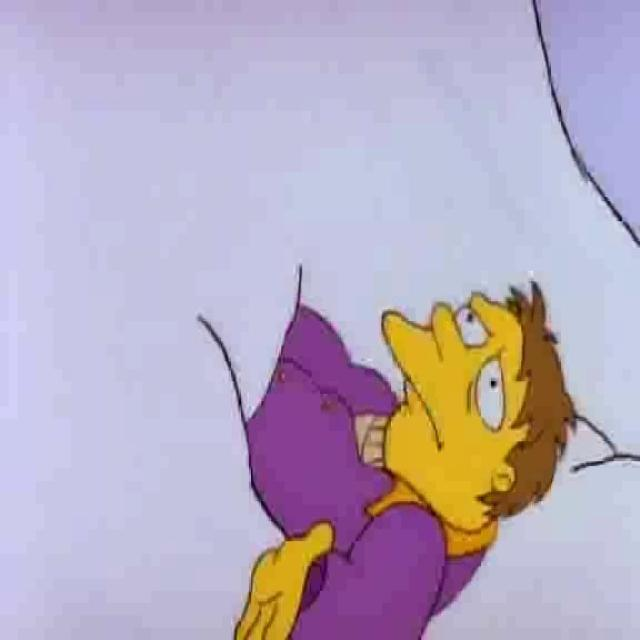Barney Gumble: (377, 282, 579, 540)
